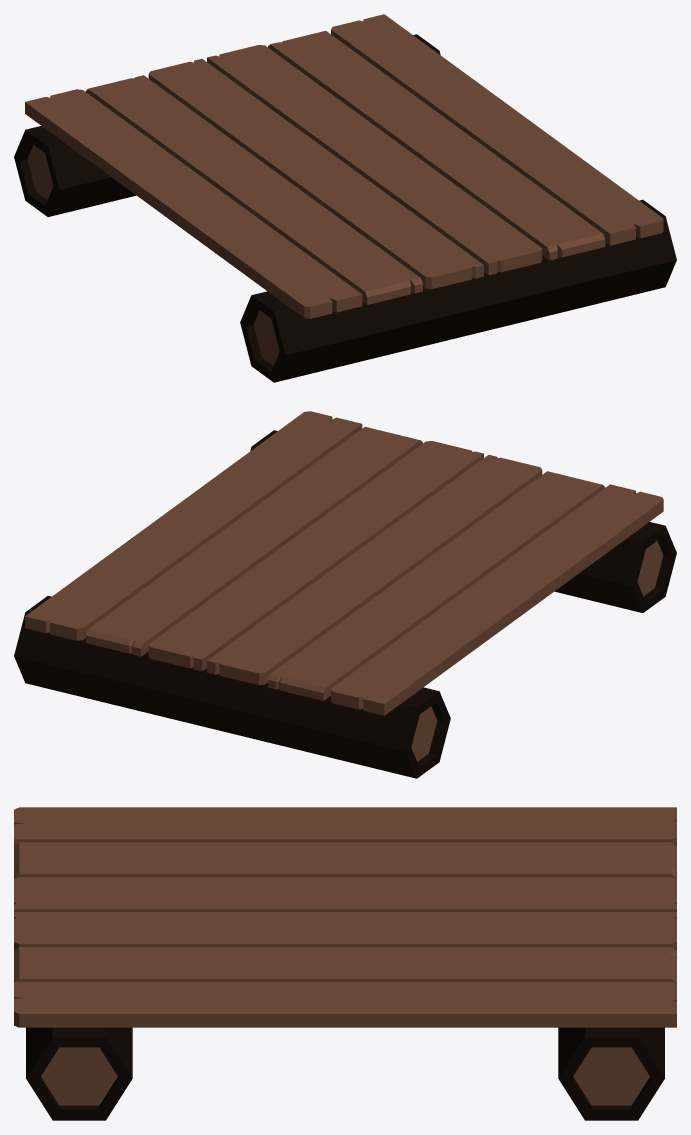
Rendered from WoodPlatform_1.fbx.
3 renders of one model, top to bottom at view 1: azimuth 30°, elevation 25°; view 2: azimuth 150°, elevation 25°; view 3: azimuth 270°, elevation 25°, orthographic. The views are drawn at different scales.
Parts seen in each view (by area): view 1: Cylinder001; view 2: Cylinder001; view 3: Cylinder001.
Boxes of the visible parts, bbox=[...] form: Cylinder001: bbox=[14, 14, 676, 382]; Cylinder001: bbox=[14, 411, 676, 778]; Cylinder001: bbox=[14, 807, 676, 1120].
Bounding box in the file's own units: 100 × 20.2 × 125.
